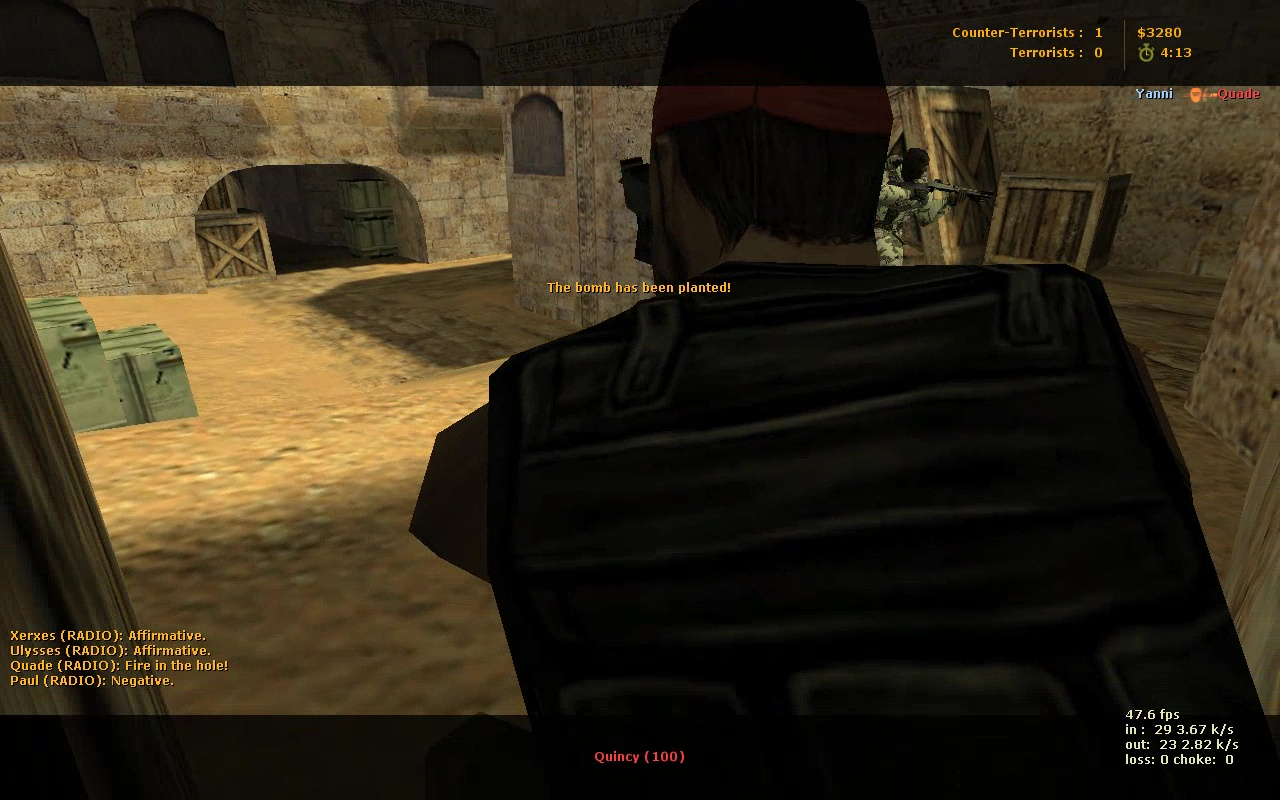terr1: (421, 46, 1255, 741)
